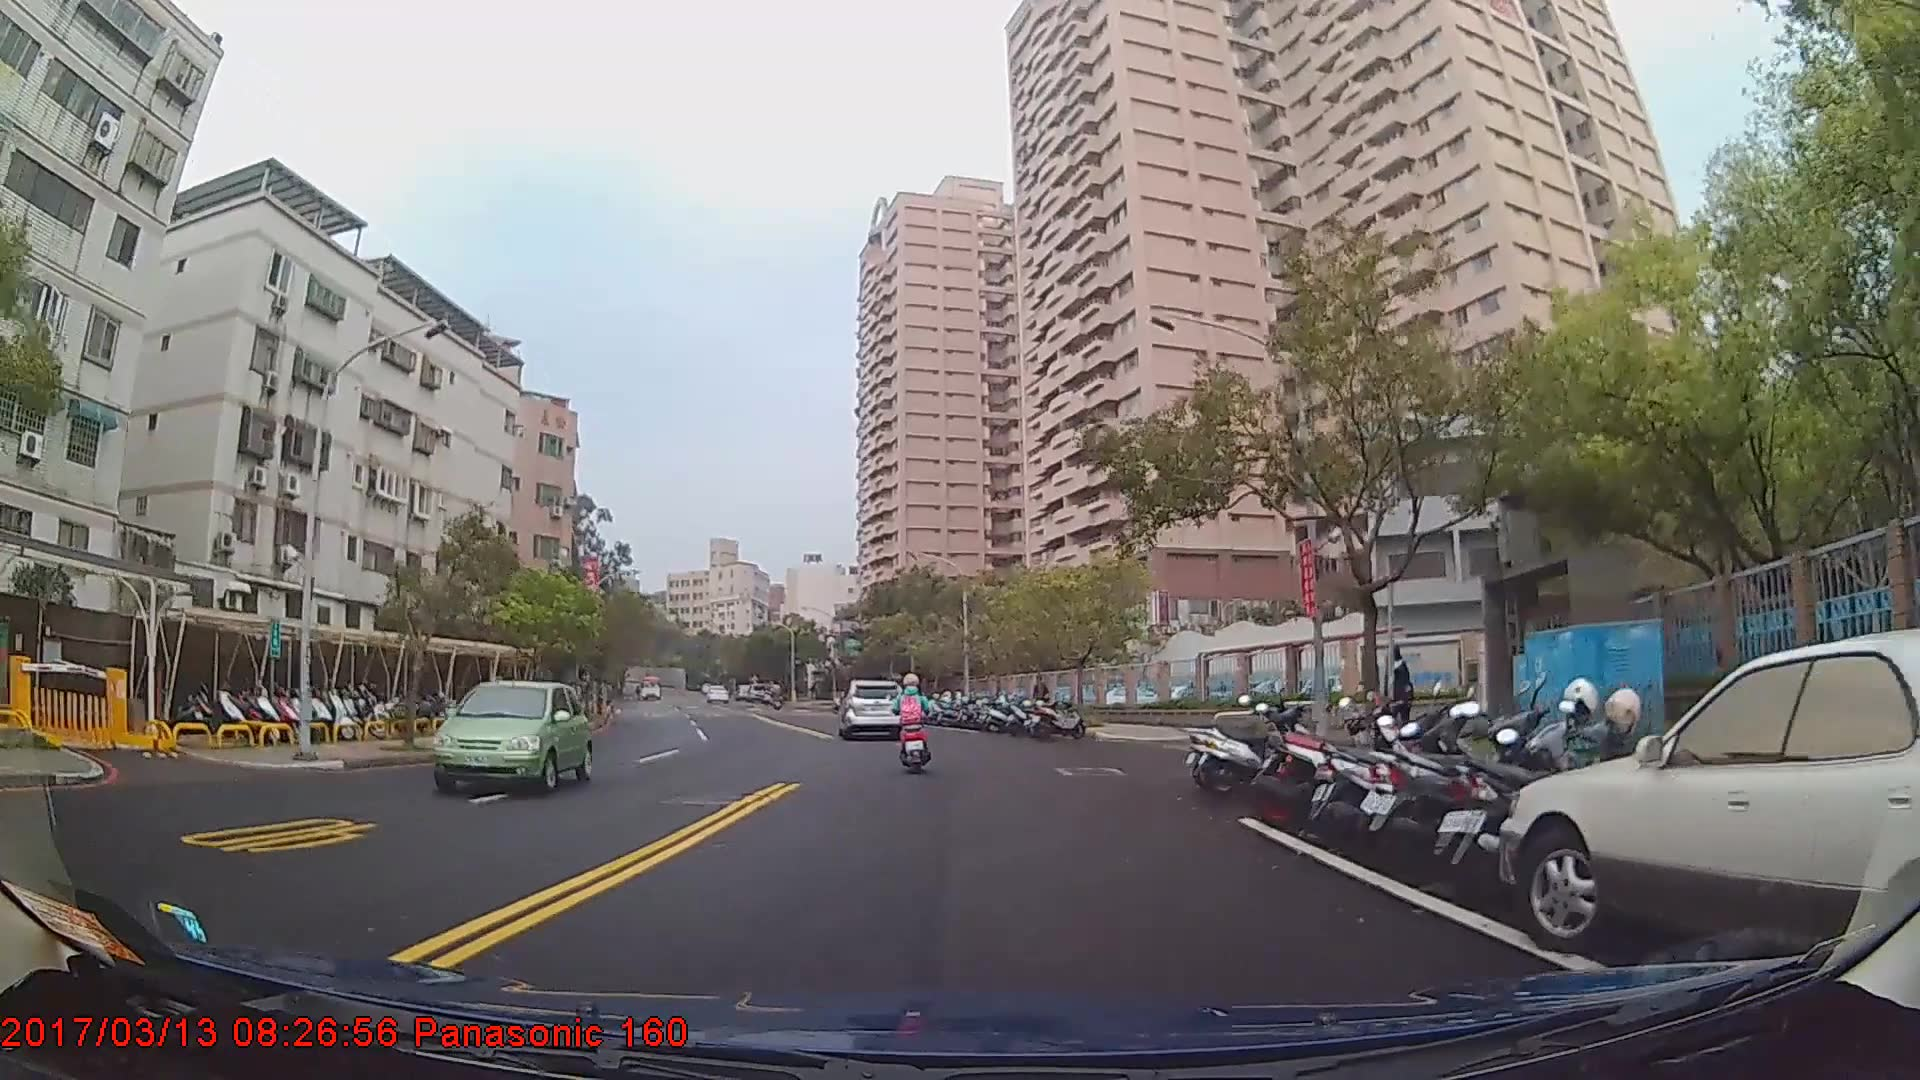pedestrian: (1385, 642, 1417, 754), (1033, 675, 1053, 727)
rider: (894, 674, 937, 780)
vehicle: (1498, 626, 1920, 982), (431, 679, 588, 793), (840, 676, 906, 740), (637, 676, 663, 703)
